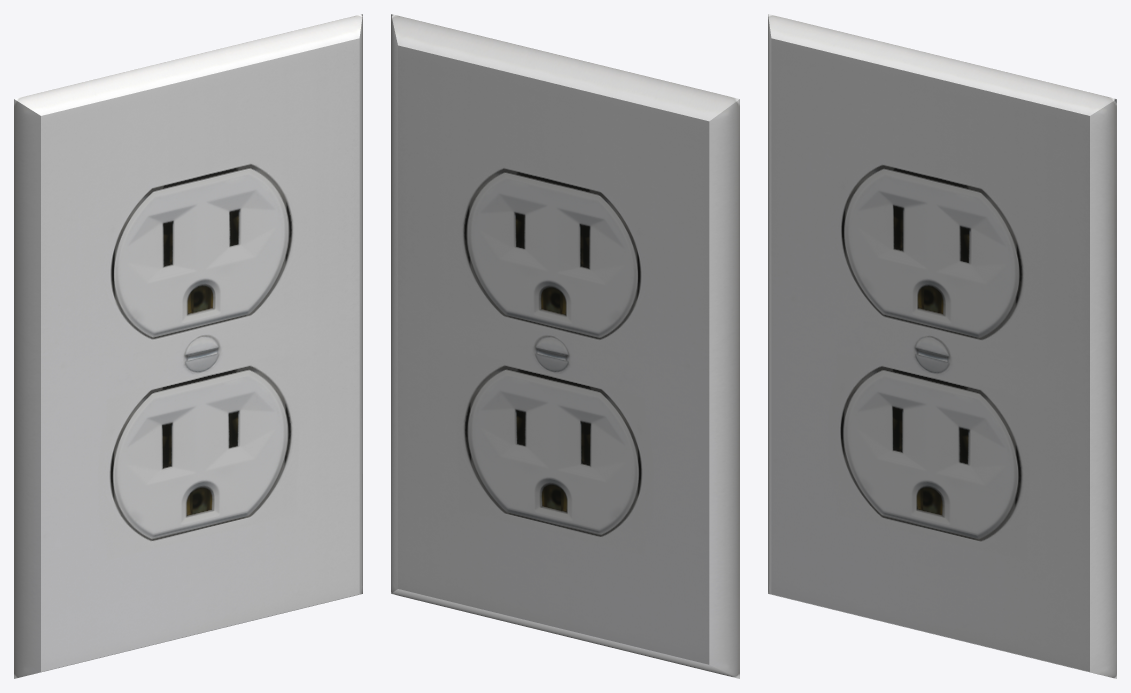
The model's file is Electrical_plug.glb.
3 views of the same model, side by side, from view 1: azimuth 30°, elevation 25°; view 2: azimuth 150°, elevation 25°; view 3: azimuth 330°, elevation 25° (orthographic).
Parts seen in each view (by area): view 1: Cube; view 2: Cube; view 3: Cube.
Part boxes in pixels (left/top/right/bottom): Cube: left=14, top=14, right=362, bottom=678; Cube: left=391, top=14, right=739, bottom=678; Cube: left=768, top=14, right=1116, bottom=678.
Size of the model in its own units: 0.2113 by 0.3358 by 0.0248.
1 material, 1 textured.
